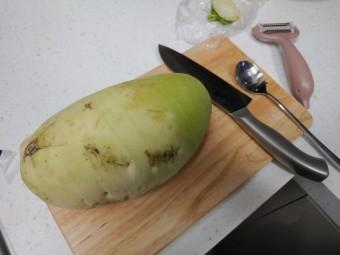radish: (6, 28, 114, 84)
